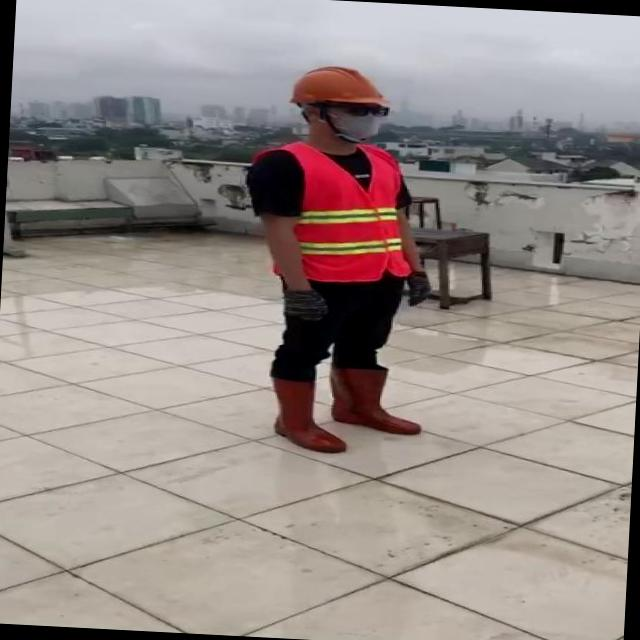boots: (324, 359, 442, 436), (260, 372, 350, 458)
gloves: (257, 253, 354, 335), (372, 259, 470, 316)
helmet: (286, 62, 386, 109)
vest: (242, 138, 416, 288)
